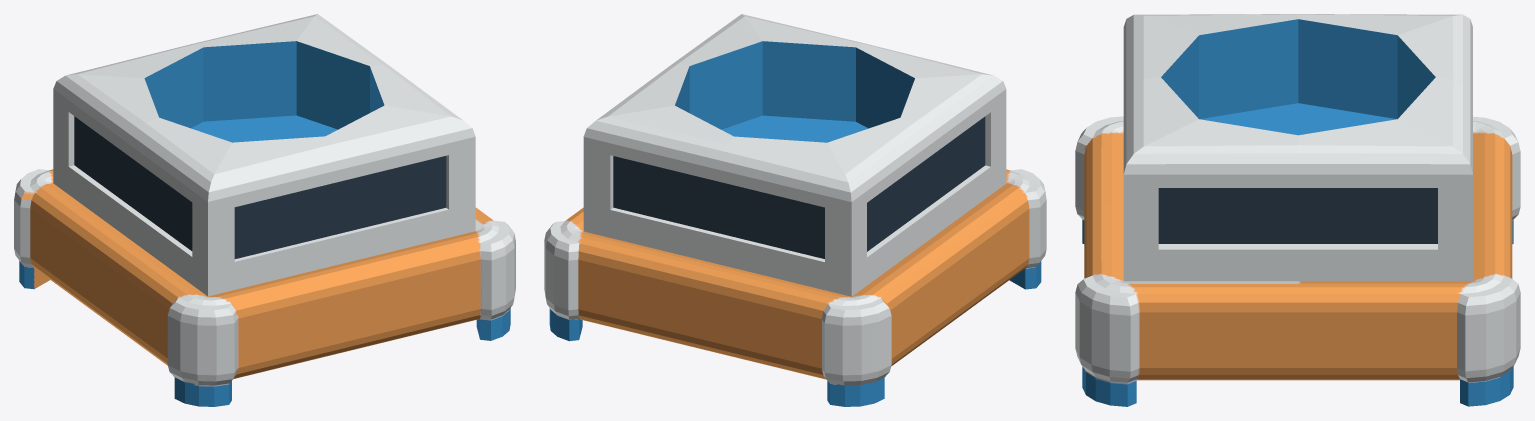
The model's file is player.gltf.
3 views of the same model, side by side, from view 1: azimuth 30°, elevation 25°; view 2: azimuth 150°, elevation 25°; view 3: azimuth 270°, elevation 25° (orthographic). The views are drawn at different scales.
Parts seen in each view (by area): view 1: Cube; view 2: Cube; view 3: Cube.
Boxes of the visible parts, x1=… form: Cube: x1=14, y1=14, x2=515, y2=406; Cube: x1=544, y1=14, x2=1046, y2=406; Cube: x1=1075, y1=14, x2=1520, y2=406.
Bounding box in the file's own units: 3.83 × 2.26 × 3.82.
Materials: 1 (1 with a texture image).
